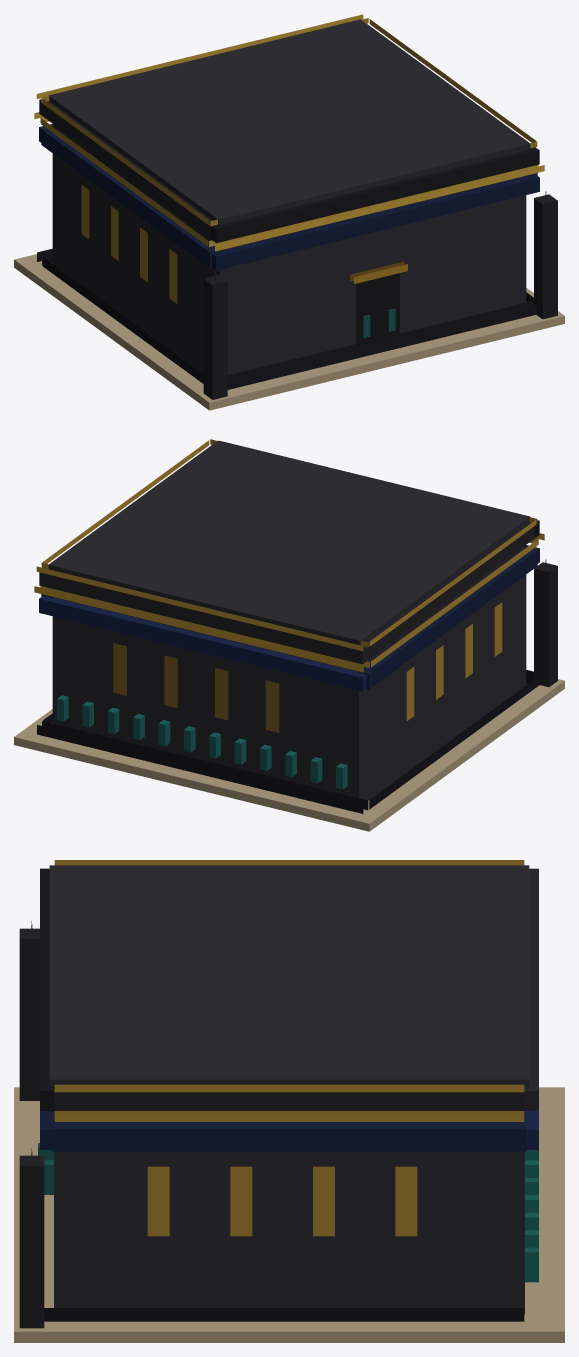
Rendered from AnubisStatueSil.fbx.
3 views of the same model, one above another, from view 1: azimuth 30°, elevation 25°; view 2: azimuth 150°, elevation 25°; view 3: azimuth 270°, elevation 25° (orthographic). The views are drawn at different scales.
Parts seen in each view (by area): view 1: AN_S_All; view 2: AN_S_All; view 3: AN_S_All.
Boxes of the visible parts, <box> form: AN_S_All: <box>14,14,564,410</box>; AN_S_All: <box>14,439,564,831</box>; AN_S_All: <box>14,860,564,1342</box>.
Size of the model in its own units: 42.04 by 19.9 by 40.04.
